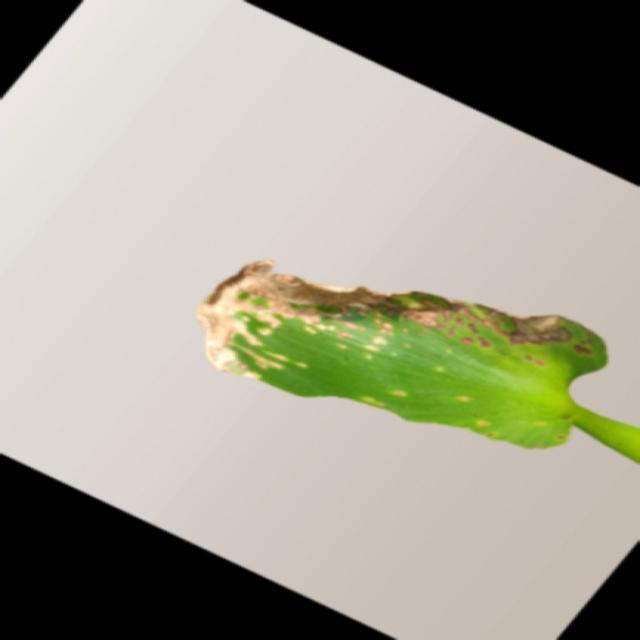daun berpenyakit bercak: (199, 262, 640, 461)
